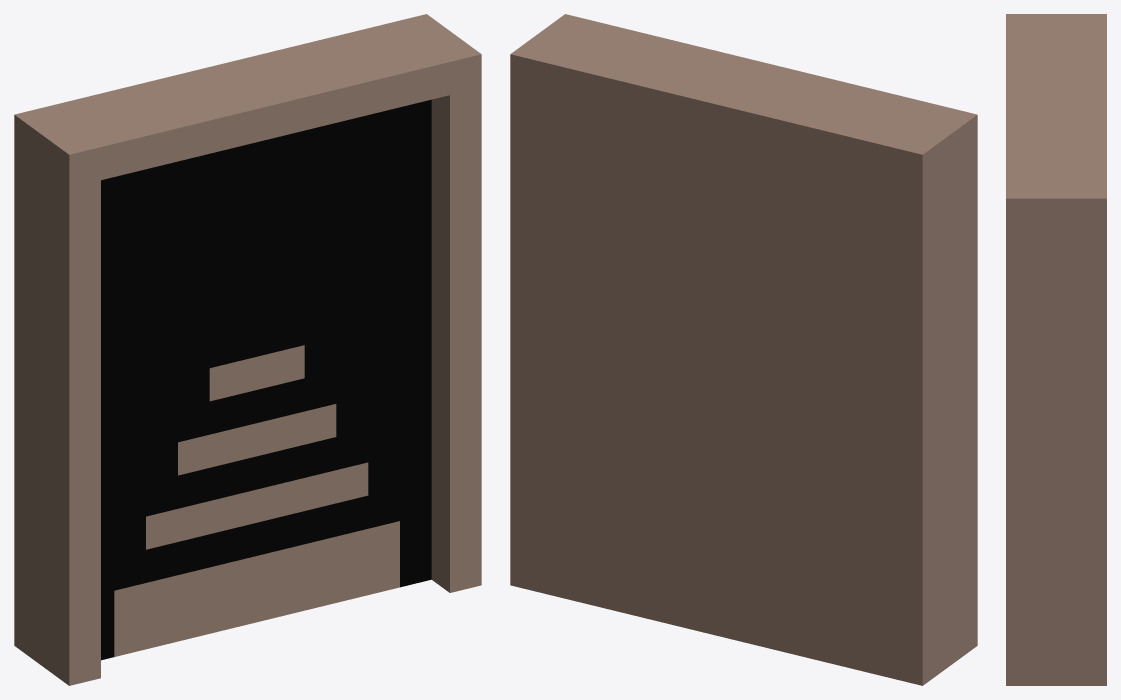
File: dungeon_a_b_entrance_c.obj
3 renders of one model, left to right at view 1: azimuth 30°, elevation 25°; view 2: azimuth 150°, elevation 25°; view 3: azimuth 270°, elevation 25°, orthographic. The views are drawn at different scales.
Size of the model in its own units: 1.3 by 1.6 by 0.3.
Materials: 1 (1 with a texture image).
